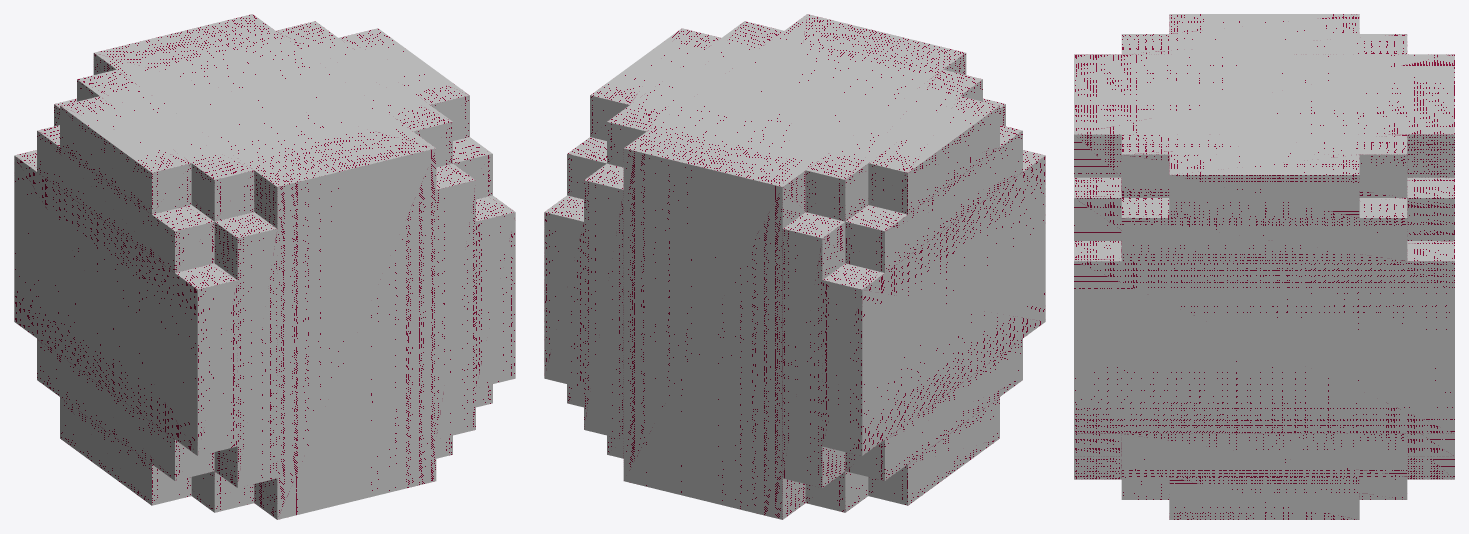
File: red-leaves-block.fbx
3 views of the same model, side by side, from view 1: azimuth 30°, elevation 25°; view 2: azimuth 150°, elevation 25°; view 3: azimuth 270°, elevation 25° (orthographic). The views are drawn at different scales.
Parts seen in each view (by area): view 1: generated; view 2: generated; view 3: generated.
Boxes of the visible parts, box(x1,y1,x2,y2) form: generated: box(14, 14, 515, 519); generated: box(544, 14, 1045, 519); generated: box(1074, 14, 1454, 519).
Bounding box in the file's own units: 80 × 80 × 80.
1 material, 1 textured.
